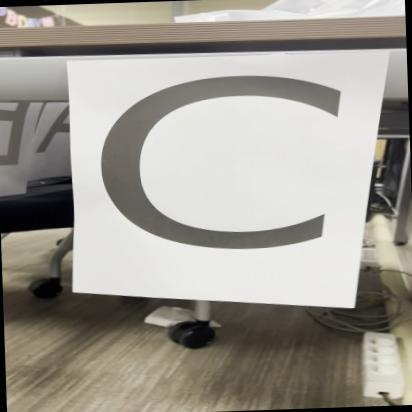seat: (77, 43, 388, 308)
